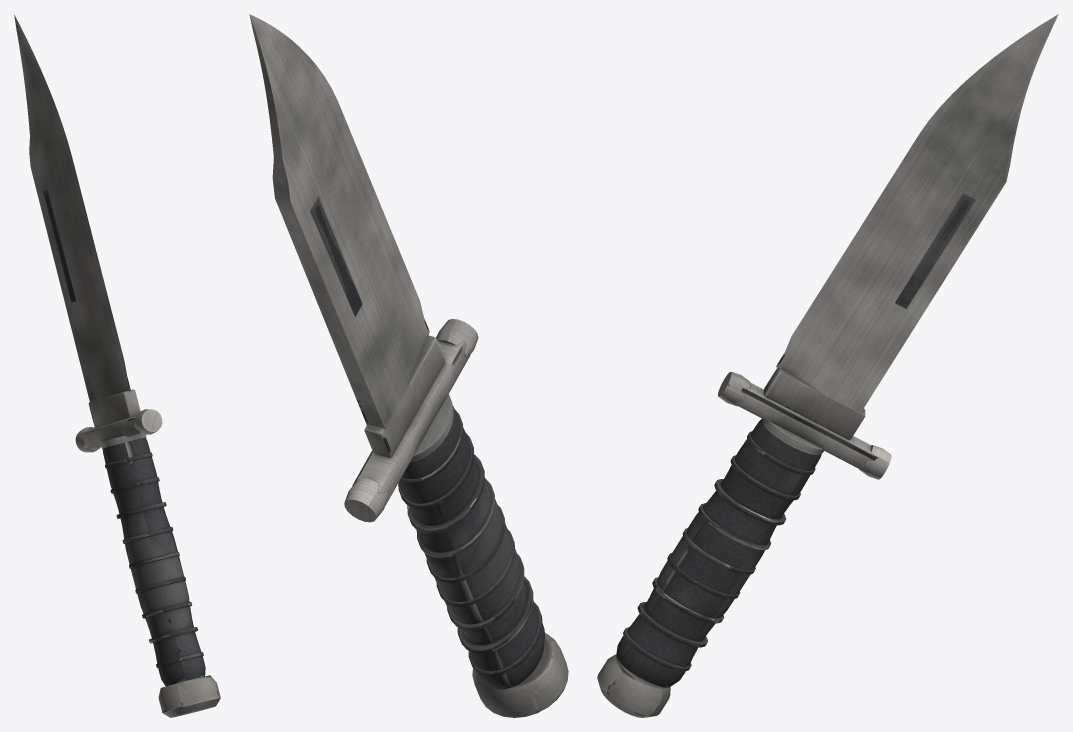
The model's file is combat_knife.glb.
3 renders of one model, left to right at view 1: azimuth 30°, elevation 25°; view 2: azimuth 150°, elevation 25°; view 3: azimuth 270°, elevation 25°, orthographic. The views are drawn at different scales.
Visible parts, largest first — view 1: blade, grip, pommel, ricasso, guard, fuller_a, guard_tip_0; view 2: blade, grip, guard, pommel, ricasso, fuller_a, guard_tip_1, ferrule, grip_rib_6, grip_rib_1, guard_tip_0, grip_rib_5 (+5 smaller); view 3: blade, grip, guard, ricasso, pommel, fuller_b, ferrule, guard_tip_0.
Boxes of the visible parts, <box> form: blade: <box>14,15,130,402</box>; grip: <box>102,437,205,686</box>; pommel: <box>158,675,220,717</box>; ricasso: <box>88,389,140,427</box>; guard: <box>80,416,140,448</box>; fuller_a: <box>43,190,75,302</box>; guard_tip_0: <box>134,409,162,434</box>; blade: <box>249,14,429,428</box>; grip: <box>398,405,544,689</box>; guard: <box>352,334,470,505</box>; pommel: <box>472,633,568,717</box>; ricasso: <box>364,335,445,457</box>; fuller_a: <box>310,197,362,316</box>; guard_tip_1: <box>344,478,387,522</box>; ferrule: <box>410,394,453,462</box>; grip_rib_6: <box>407,454,484,534</box>; grip_rib_1: <box>457,576,533,653</box>; guard_tip_0: <box>437,319,478,357</box>; grip_rib_5: <box>416,478,495,558</box>; blade: <box>776,14,1058,413</box>; grip: <box>616,419,821,687</box>; guard: <box>733,383,876,472</box>; ricasso: <box>764,368,865,439</box>; pommel: <box>597,654,670,717</box>; fuller_b: <box>895,194,975,308</box>; ferrule: <box>761,418,823,455</box>; guard_tip_0: <box>718,371,750,406</box>.
Bounding box in the file's own units: 0.027 × 0.2846 × 0.1702.
Materials: 1 (1 with a texture image).
